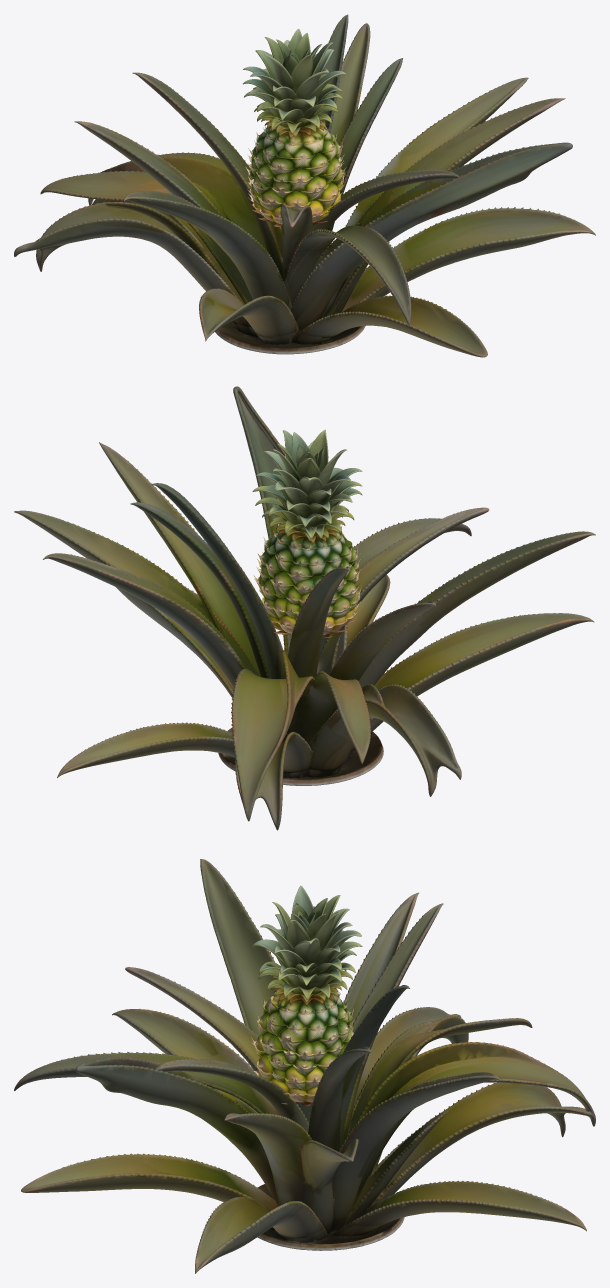
File: 3boluowanzhengti-v1-v2.glb
The picture shows the model from 3 angles, top to bottom: view 1: azimuth 30°, elevation 25°; view 2: azimuth 150°, elevation 25°; view 3: azimuth 270°, elevation 25°; orthographic projection. The views are drawn at different scales.
Parts seen in each view (by area): view 1: node_0.001, node_0; view 2: node_0.001, node_0; view 3: node_0.001, node_0.
Boxes of the visible parts, left/top/right/bottom form: node_0.001: left=14, top=14, right=595, bottom=357; node_0: left=243, top=29, right=346, bottom=226; node_0.001: left=14, top=386, right=595, bottom=830; node_0: left=252, top=429, right=362, bottom=637; node_0.001: left=14, top=859, right=595, bottom=1273; node_0: left=251, top=885, right=362, bottom=1106.
Size of the model in its own units: 1.06 by 0.6507 by 1.03.
Materials: 3 (2 with a texture image).
